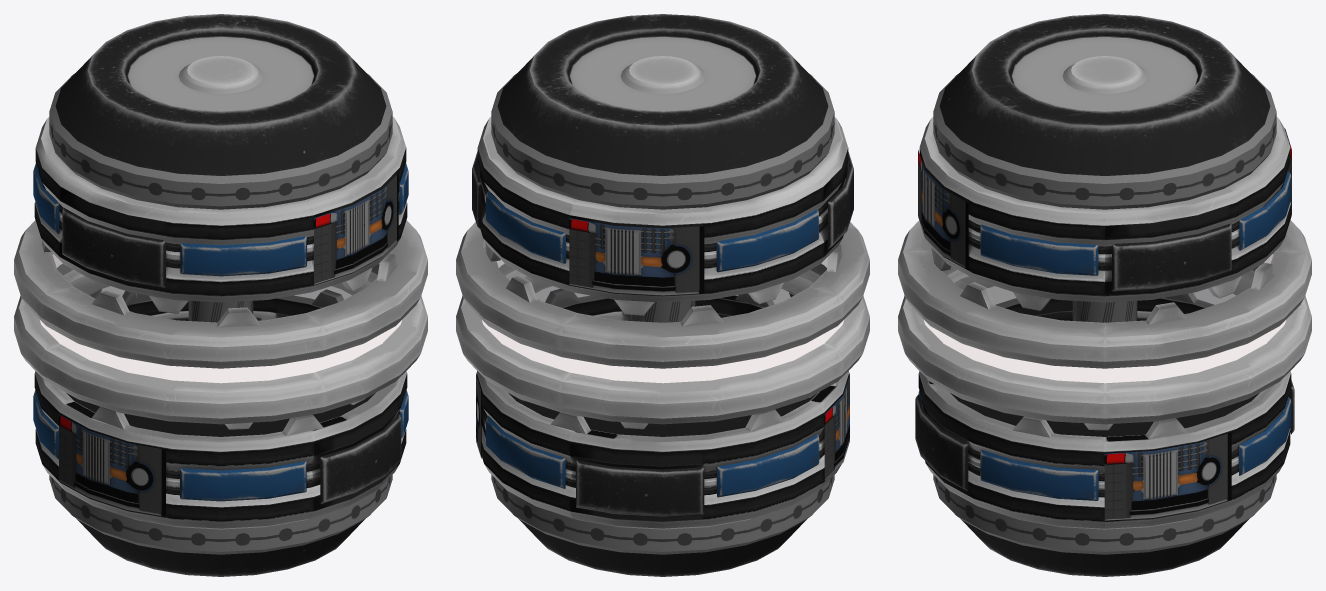
The model's file is sci_-_fi_game_ready_blue_complex_barrel.glb.
The picture shows the model from 3 angles, left to right: view 1: azimuth 30°, elevation 25°; view 2: azimuth 150°, elevation 25°; view 3: azimuth 270°, elevation 25°; orthographic projection.
Visible parts, largest first — view 1: barrel_3; view 2: barrel_3; view 3: barrel_3.
Part boxes in pixels (box(x1,y1,x2,y2)): barrel_3: box(14, 14, 427, 576); barrel_3: box(456, 14, 869, 576); barrel_3: box(898, 14, 1311, 576).
Bounding box in the file's own units: 2.58 × 3.1 × 2.58.
Materials: 3 (1 with a texture image).
